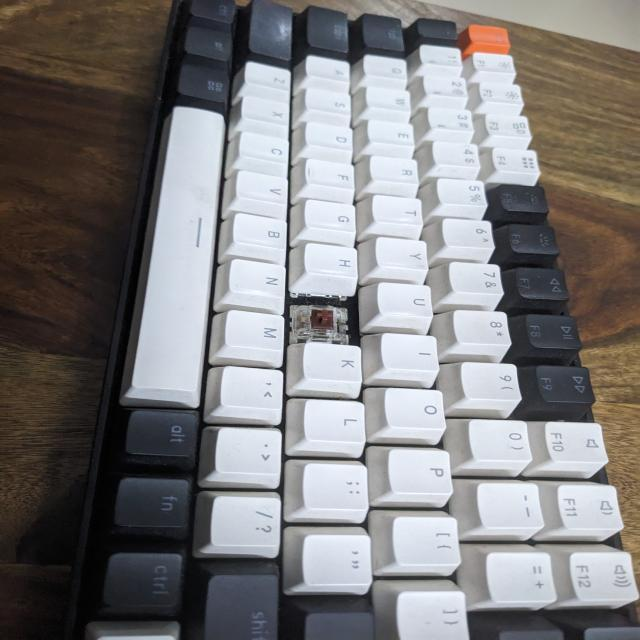key-switch: (297, 296, 357, 345)
